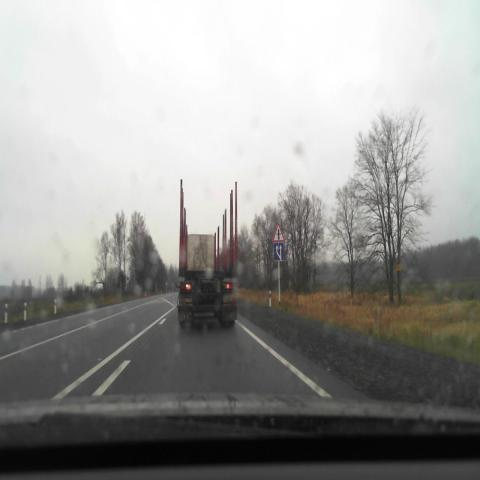2_3: (272, 221, 285, 242)
